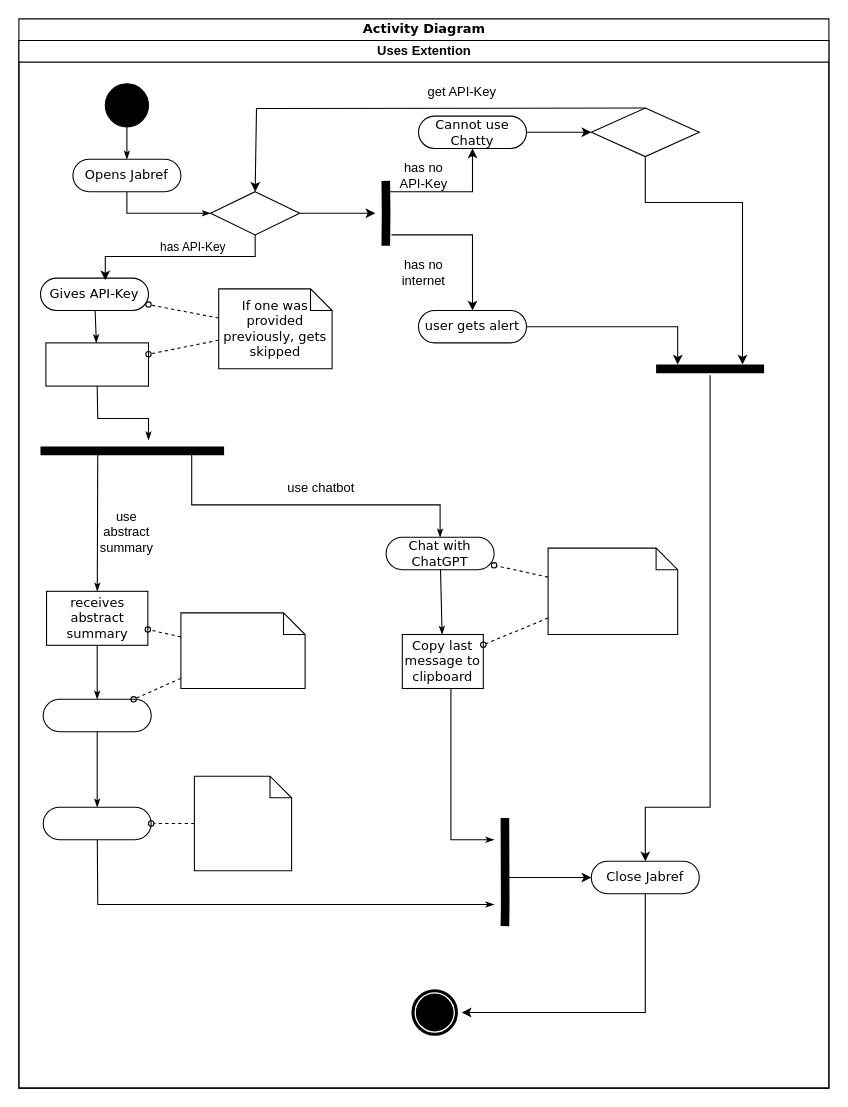
Some shapes in this 848 by 1107 pixel diagram are drawn without their labels. The centre of each missing label's shape, as x and y in pixels:
Close summary: point (96, 823)
Context only saved in current session: point (612, 590)
if none is provided, "No abstract found" will be displayed: point (242, 650)
Read summary: point (96, 715)
Saved in text doccument: point (96, 364)
Summaries are not persistent: point (242, 823)
